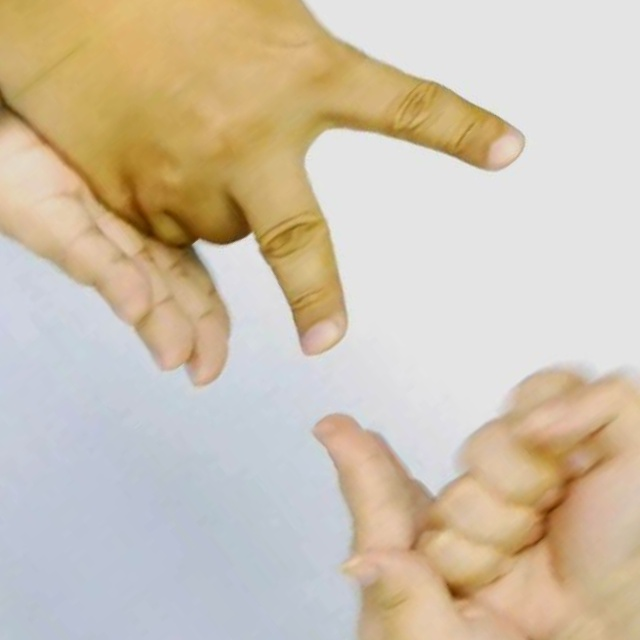Rock: (481, 0, 640, 42)
Scissors: (0, 0, 318, 97)
